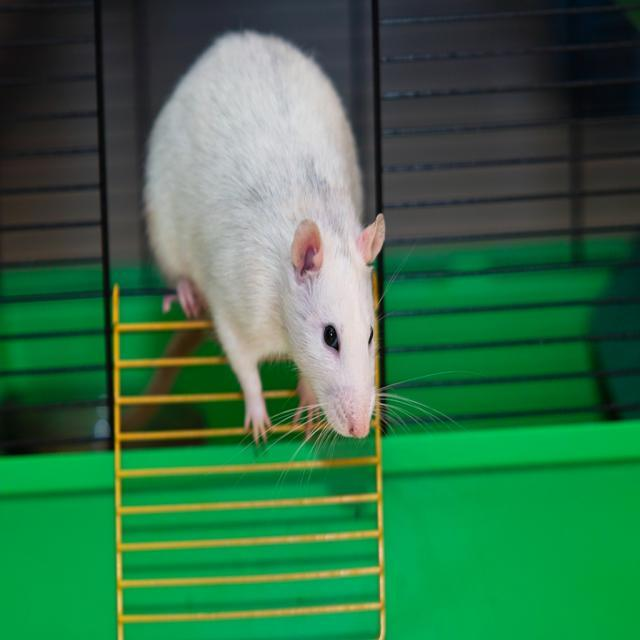rat: (142, 29, 389, 442)
